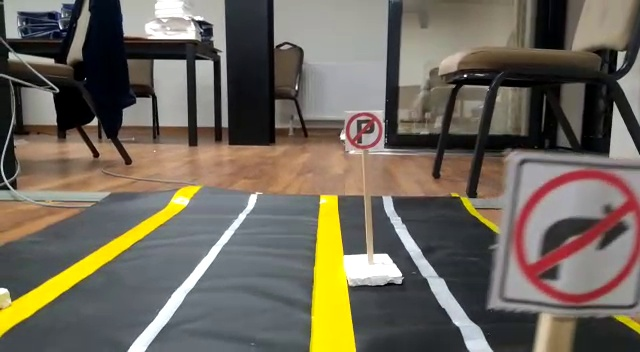park_yapilmaz: (341, 108, 389, 155)
saga_donulmez: (511, 167, 640, 304)
